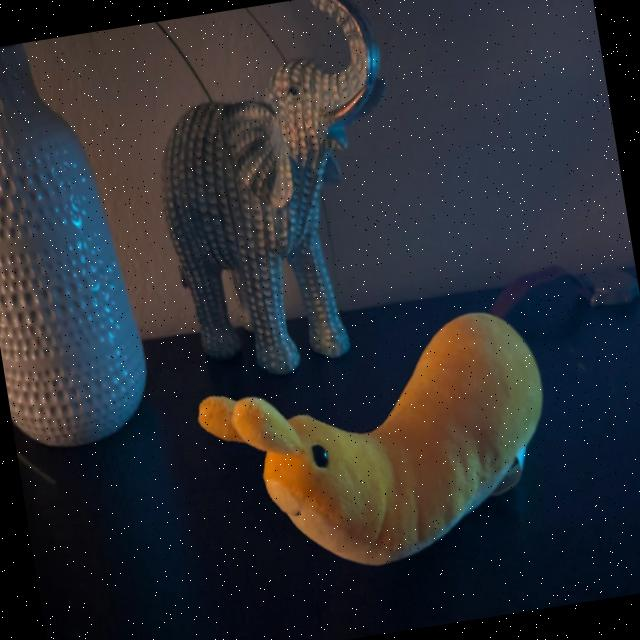banana-slug-toy: (167, 268, 582, 618)
